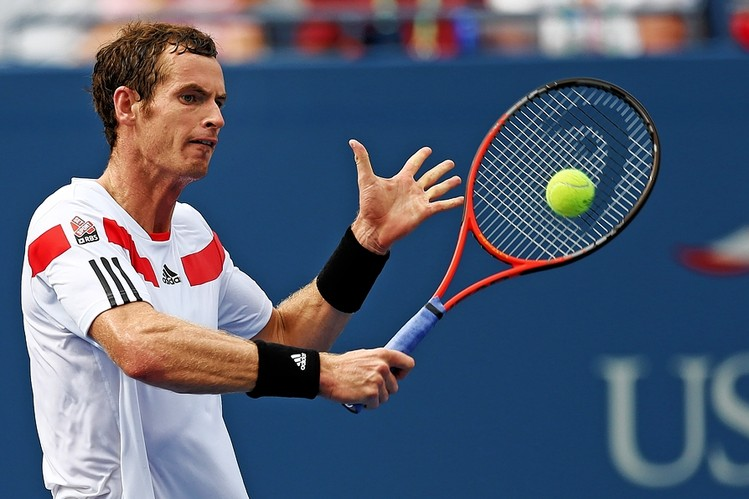tennis ball: (541, 170, 599, 220)
tennis player: (12, 2, 463, 499)
